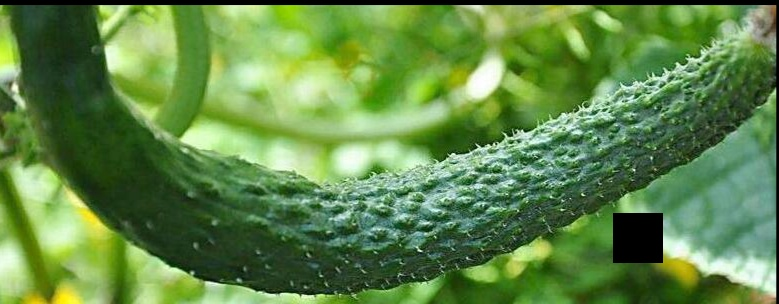cucumber: (29, 10, 772, 292)
